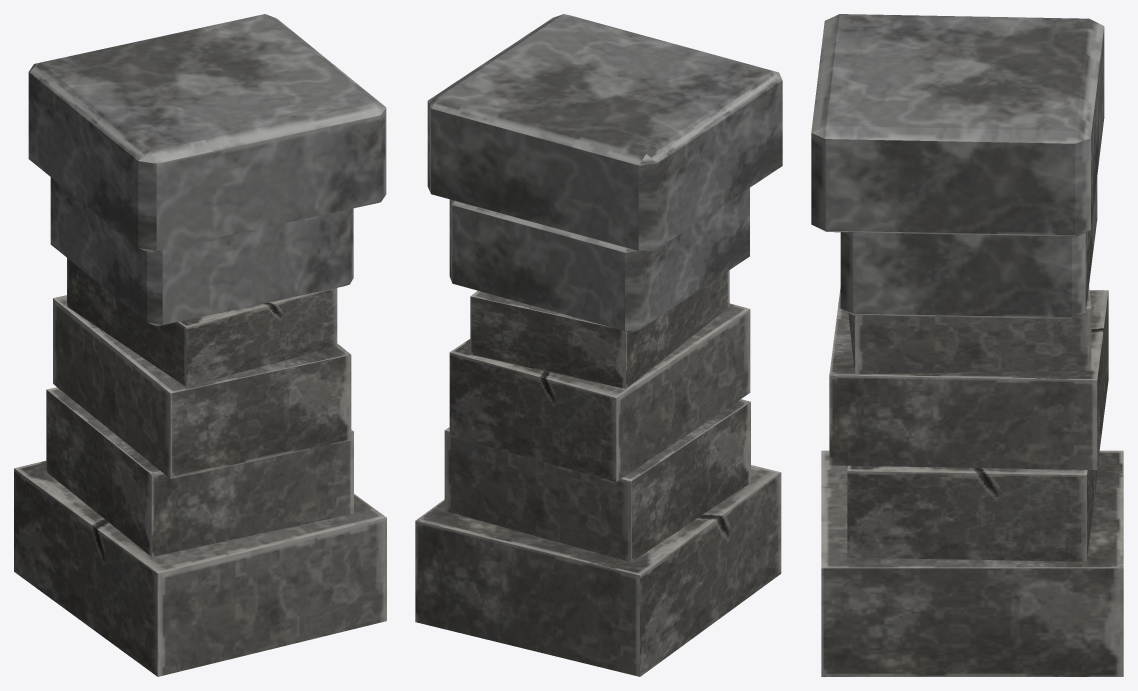
Rendered from ModularPillar02.fbx.
3 views of the same model, side by side, from view 1: azimuth 30°, elevation 25°; view 2: azimuth 150°, elevation 25°; view 3: azimuth 270°, elevation 25° (orthographic). The views are drawn at different scales.
Visible parts, largest first — view 1: Cube; view 2: Cube; view 3: Cube.
Boxes of the visible parts, x1,y1,x2,y2 form: Cube: (14,14,386,676); Cube: (415,14,782,676); Cube: (811,14,1123,676).
Bounding box in the file's own units: 1.06 × 2.1 × 1.09.
1 material, 1 textured.
